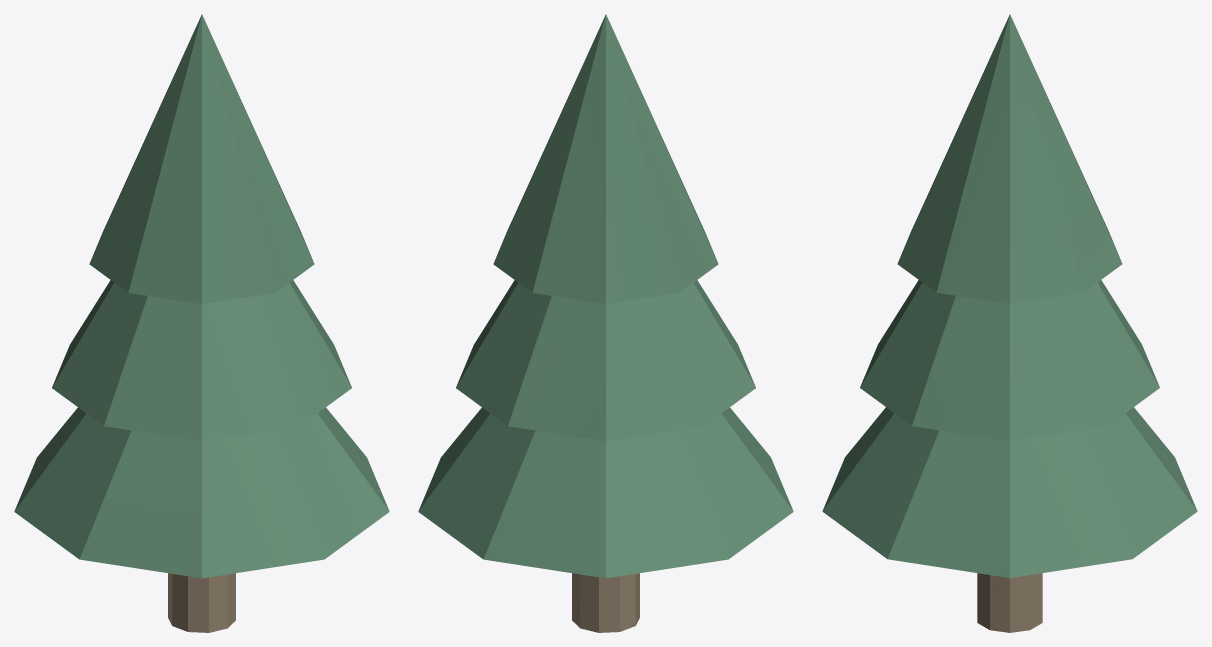
Rendered from pine-01.glb.
3 renders of one model, left to right at view 1: azimuth 30°, elevation 25°; view 2: azimuth 150°, elevation 25°; view 3: azimuth 270°, elevation 25°, orthographic.
Parts seen in each view (by area): view 1: world; view 2: world; view 3: world.
Part boxes in pixels (box(x1,y1,x2,y2)): world: box(14, 14, 389, 632); world: box(418, 14, 793, 632); world: box(822, 14, 1197, 632).
Bounding box in the file's own units: 0.9698 × 1.75 × 0.9848.
